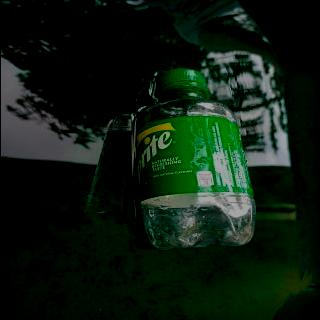bottle: (128, 66, 260, 252)
